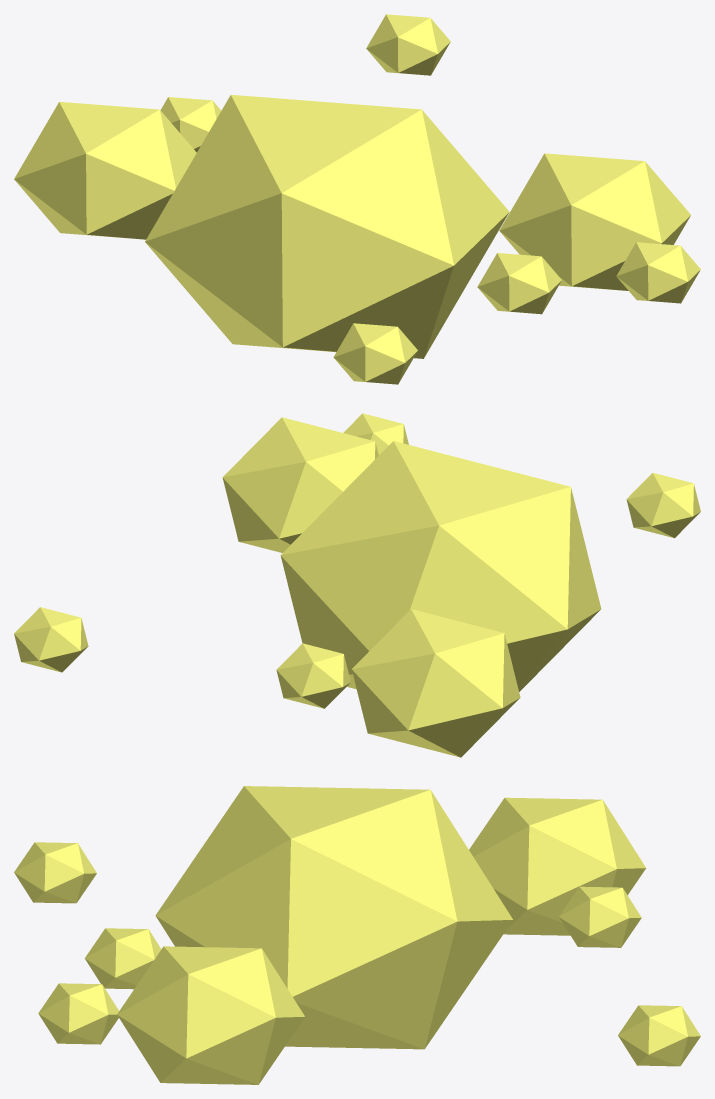
The model's file is glowstone_item.fbx.
3 renders of one model, top to bottom at view 1: azimuth 30°, elevation 25°; view 2: azimuth 150°, elevation 25°; view 3: azimuth 270°, elevation 25°, orthographic. The views are drawn at different scales.
Visible parts, largest first — view 1: polySurface10; view 2: polySurface10; view 3: polySurface10.
Part boxes in pixels (x1,y1,x2,y2): polySurface10: (14, 14, 700, 384); polySurface10: (14, 413, 700, 757); polySurface10: (14, 786, 700, 1084).
Bounding box in the file's own units: 0.2595 × 0.1203 × 0.33.
